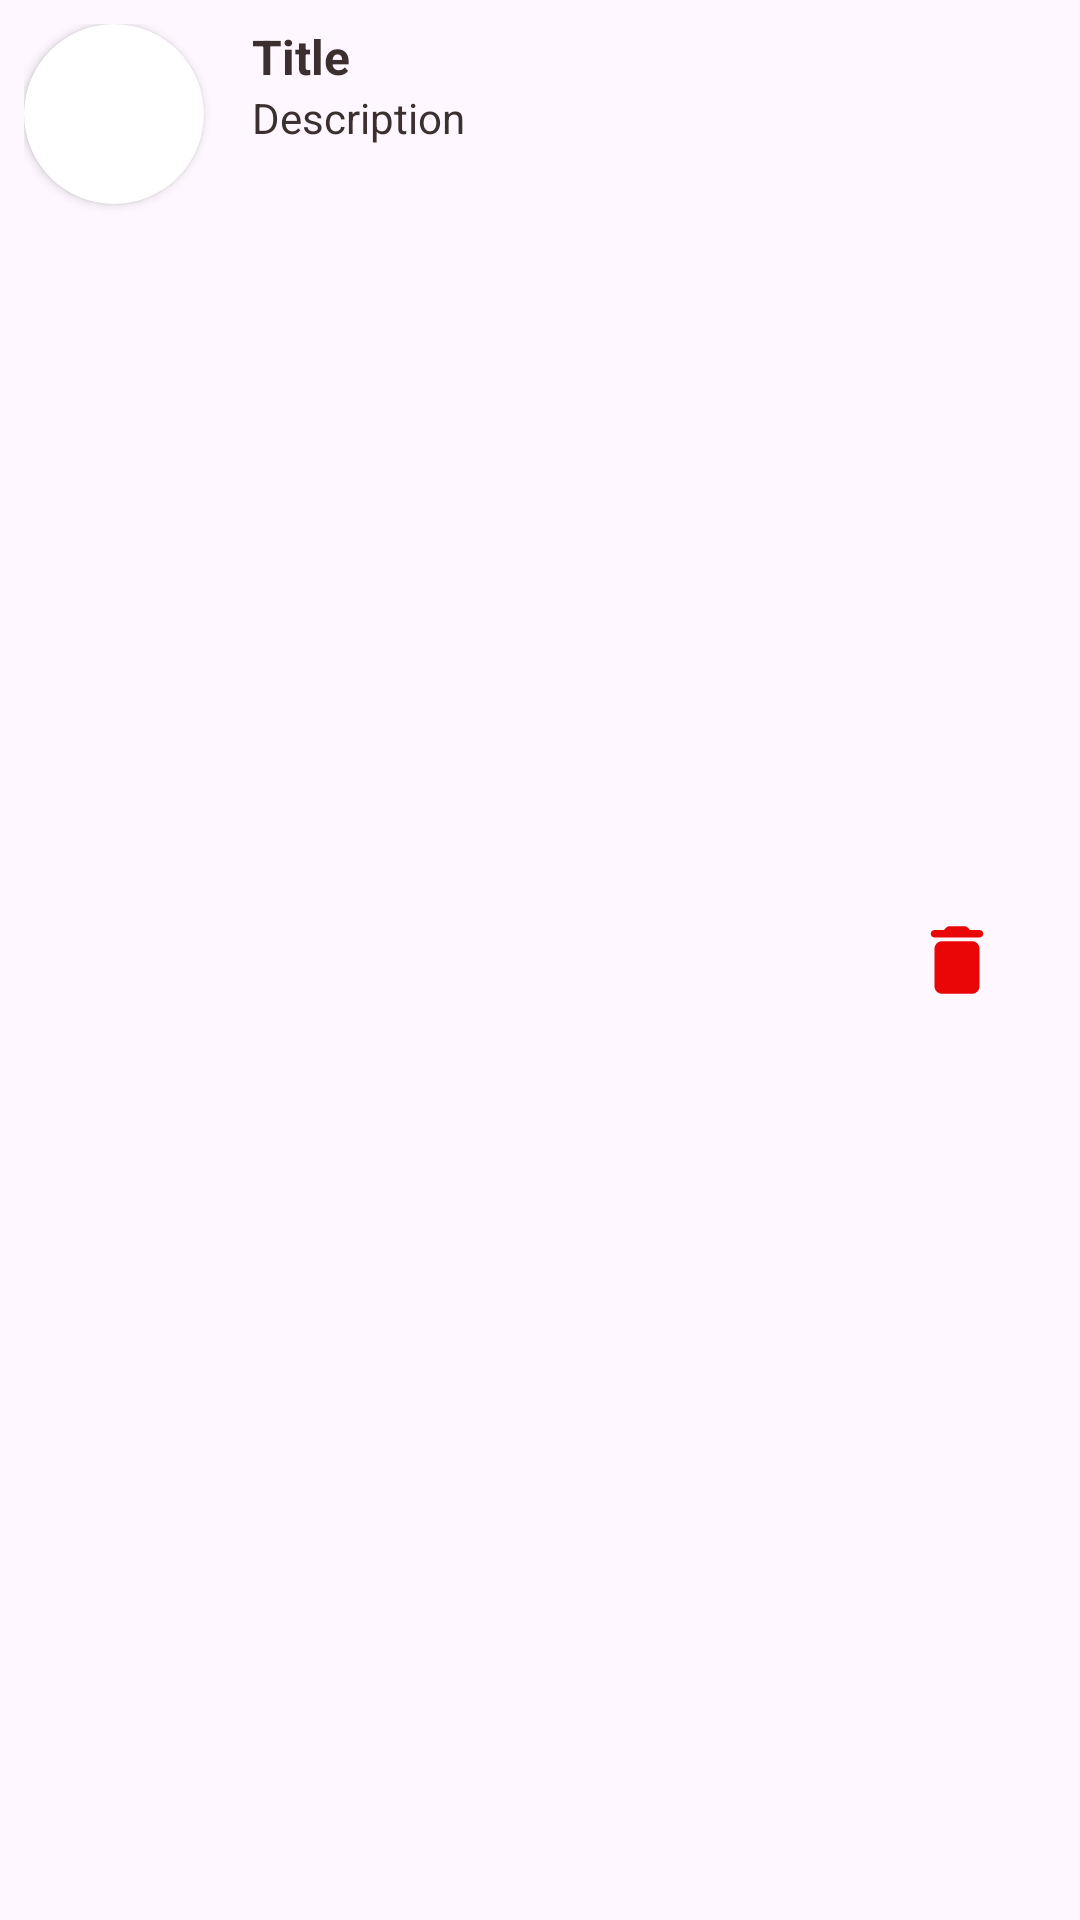

Icon click points for this 1080×1920 phone screenshot, format point (x, y):
delete: point (957, 960)
